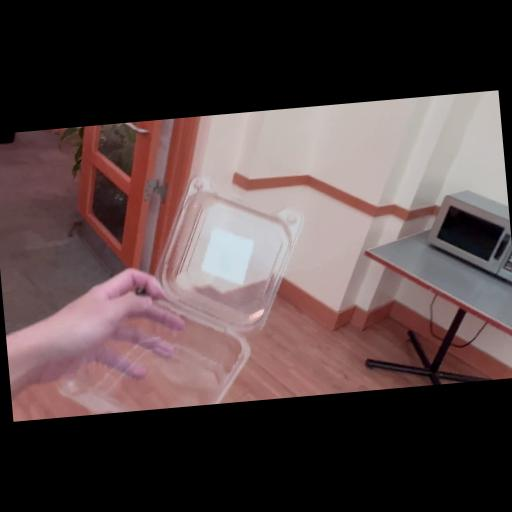small_plastic_container: (34, 169, 314, 418)
